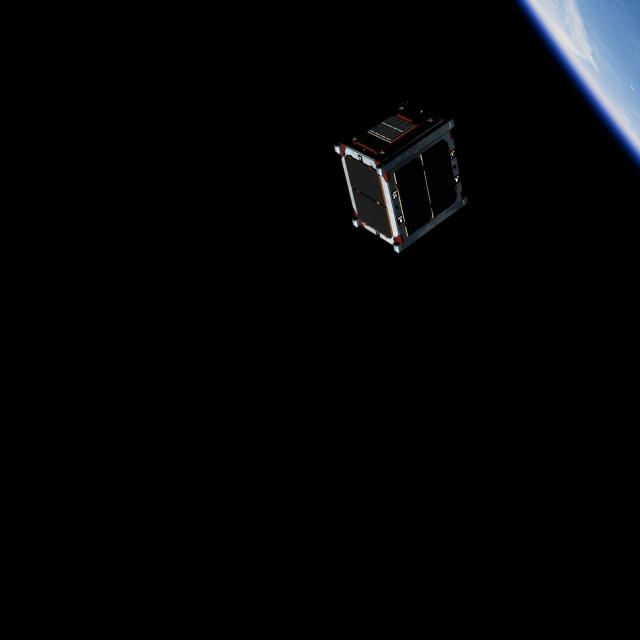satellite: (332, 87, 472, 258)
